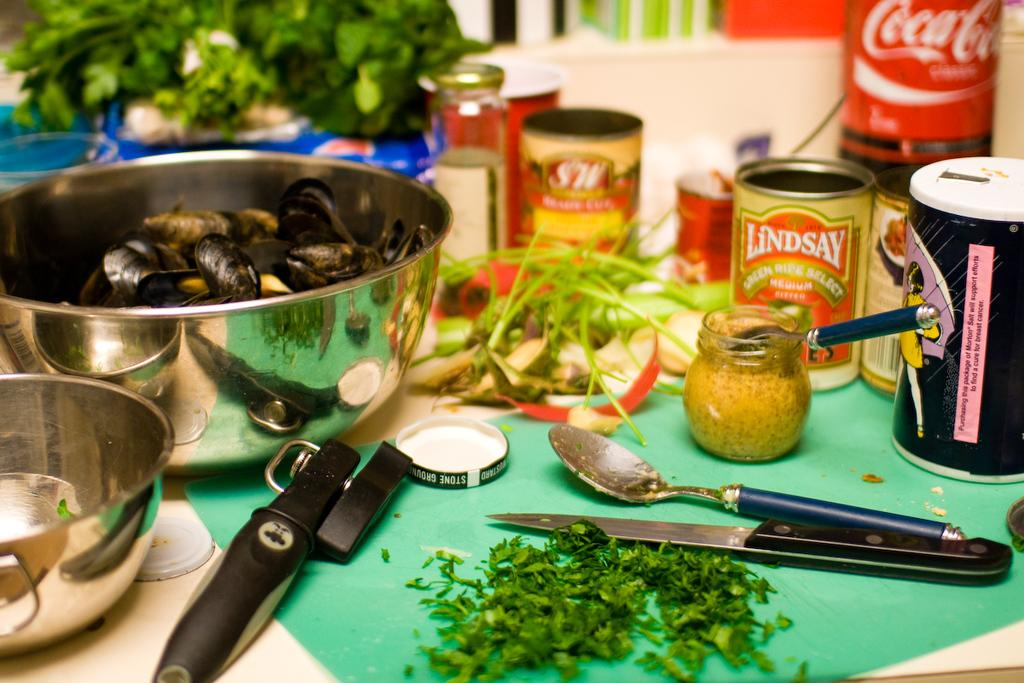Knife: (487, 514, 1013, 588)
